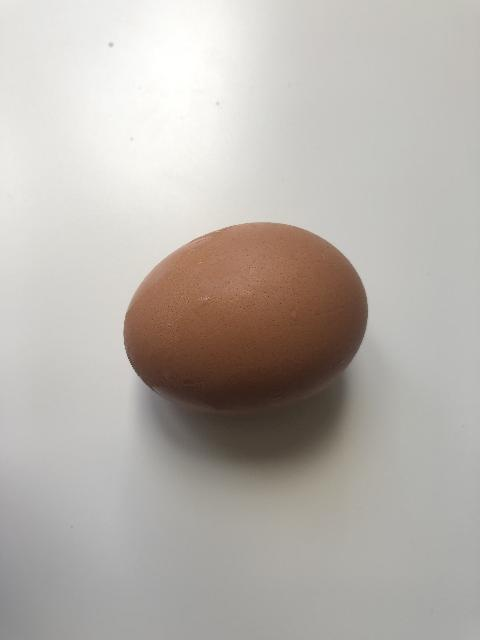Sano: (122, 220, 369, 417)
